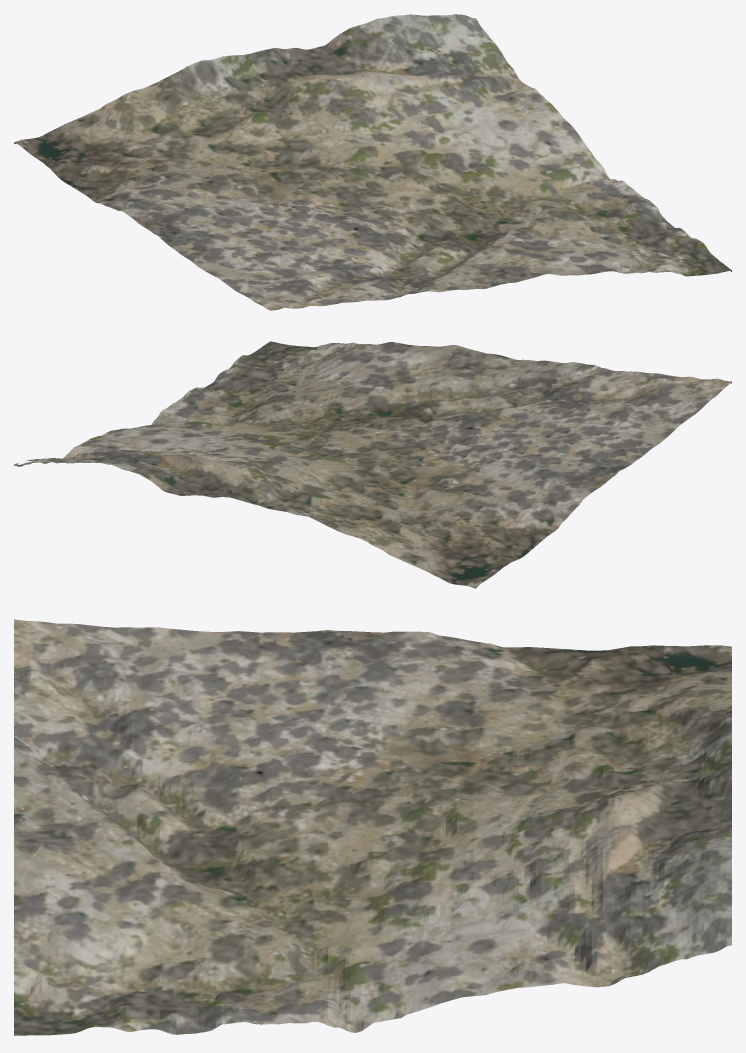
3 views of the same model, one above another, from view 1: azimuth 30°, elevation 25°; view 2: azimuth 150°, elevation 25°; view 3: azimuth 270°, elevation 25° (orthographic). The views are drawn at different scales.
Bounding box in the file's own units: 250 × 47.03 × 241.
1 material, 1 textured.
